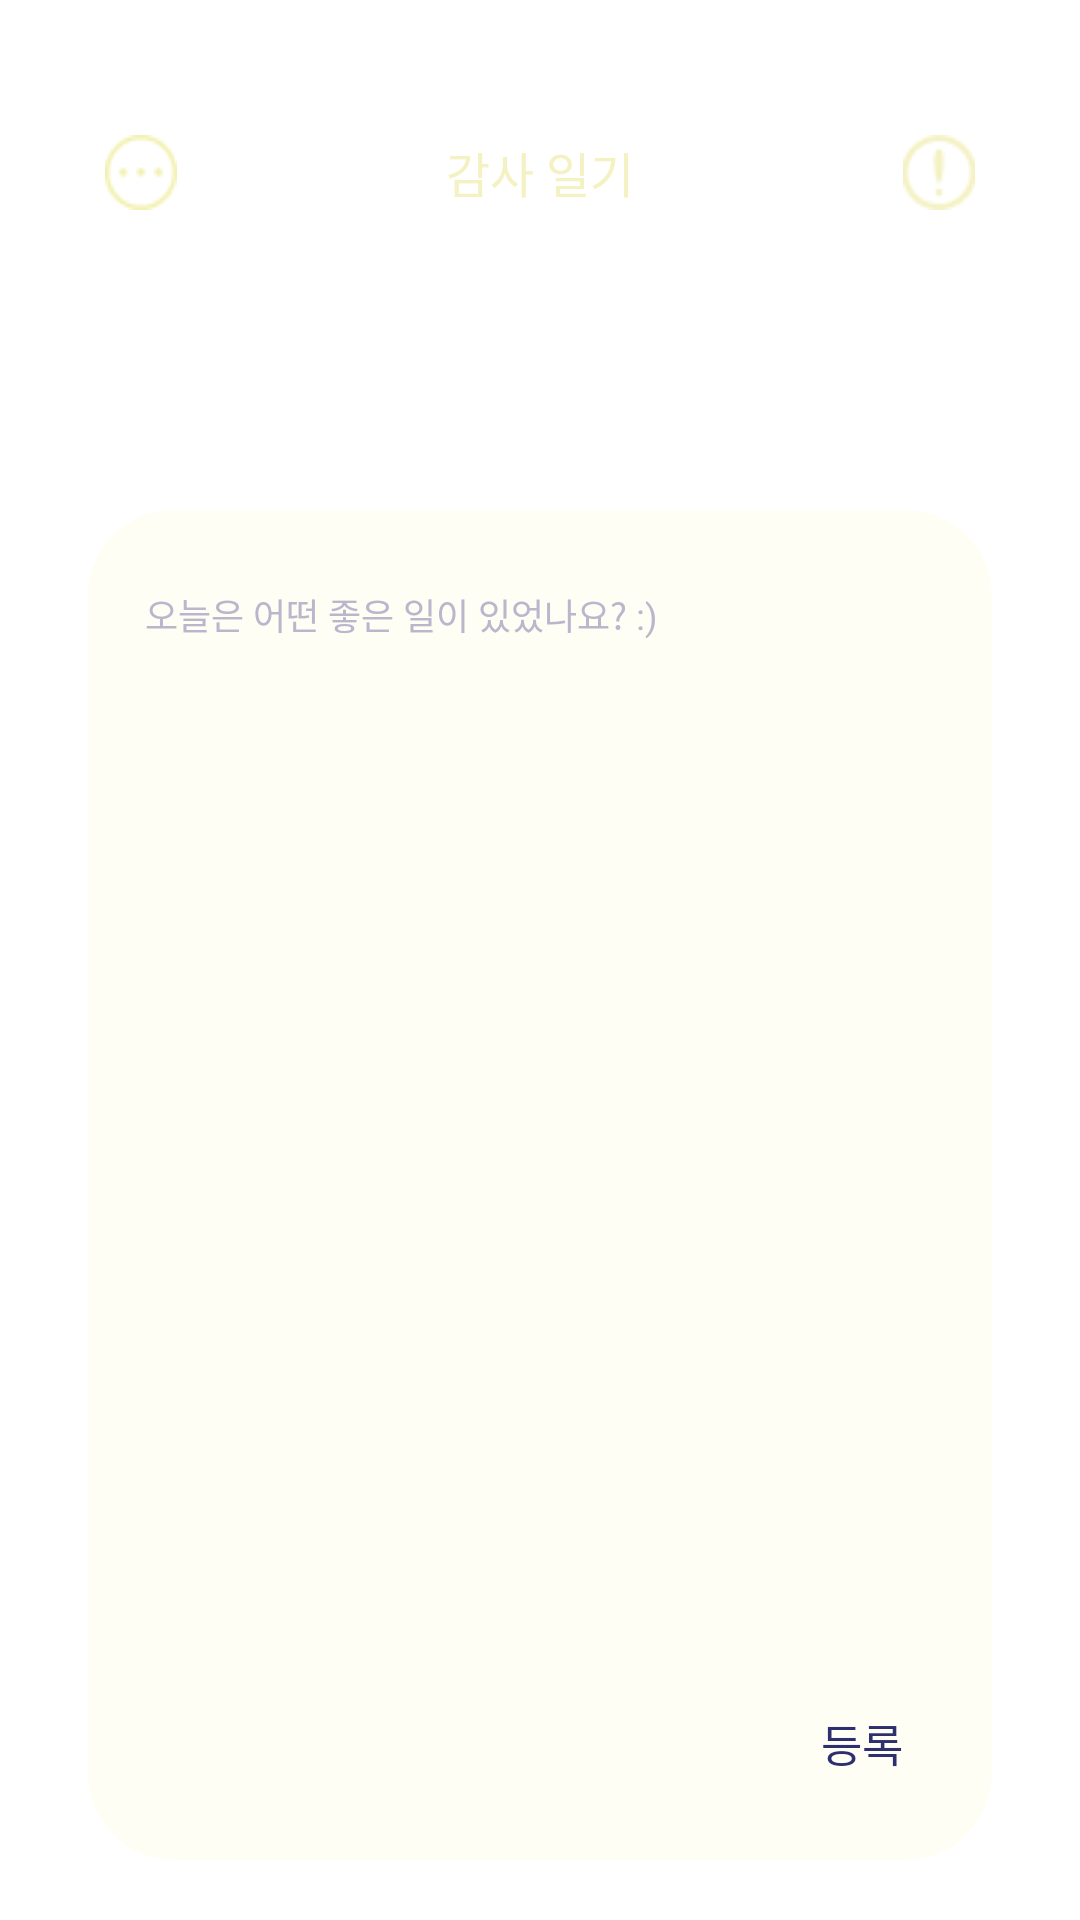

Screen size 1080px x 1920px. Icon name, then its center in pixels as point (x, y):
issue: point (939, 172)
show more: point (141, 172)
